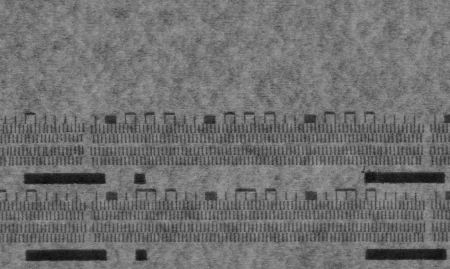Oblique printing: (2, 120, 86, 167)
